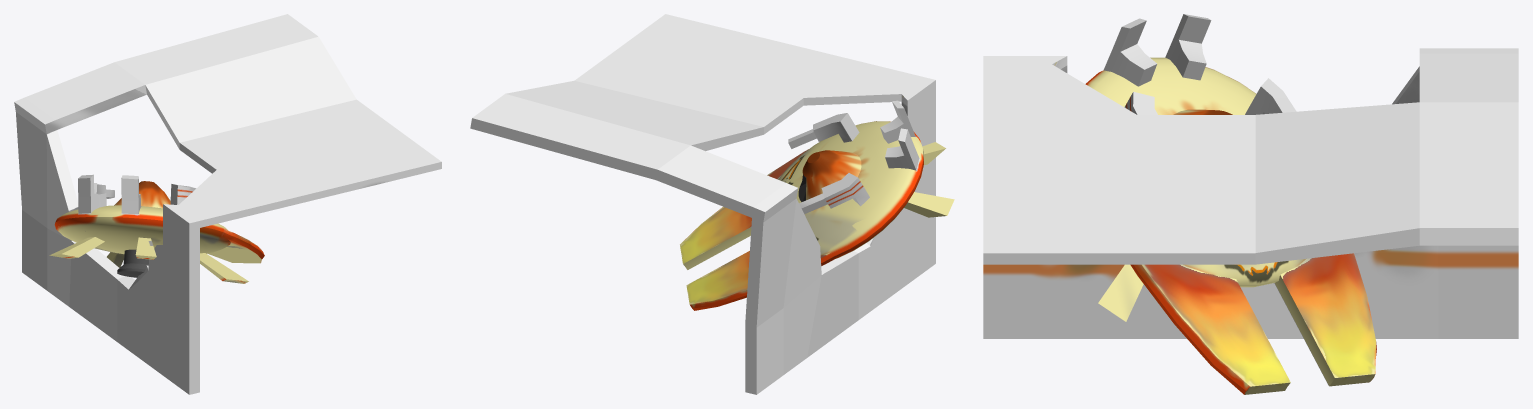
Rendered from crashedWall.fbx.
3 renders of one model, left to right at view 1: azimuth 30°, elevation 25°; view 2: azimuth 150°, elevation 25°; view 3: azimuth 270°, elevation 25°, orthographic. The views are drawn at different scales.
Visible parts, largest first — view 1: Sphere.001; view 2: Sphere.001; view 3: Sphere.001.
Boxes of the visible parts, x1=… form: Sphere.001: x1=14, y1=14, x2=441, y2=394; Sphere.001: x1=470, y1=14, x2=954, y2=394; Sphere.001: x1=983, y1=14, x2=1518, y2=394.
Bounding box in the file's own units: 2625 × 1417 × 2219.
